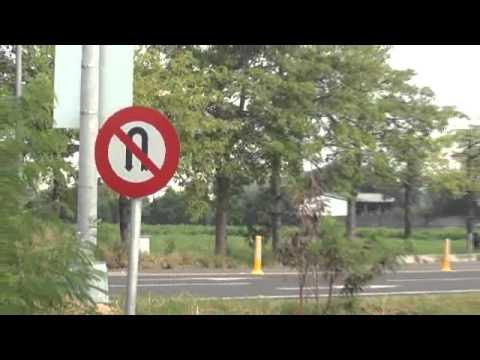no_u_turn: (93, 105, 178, 197)
